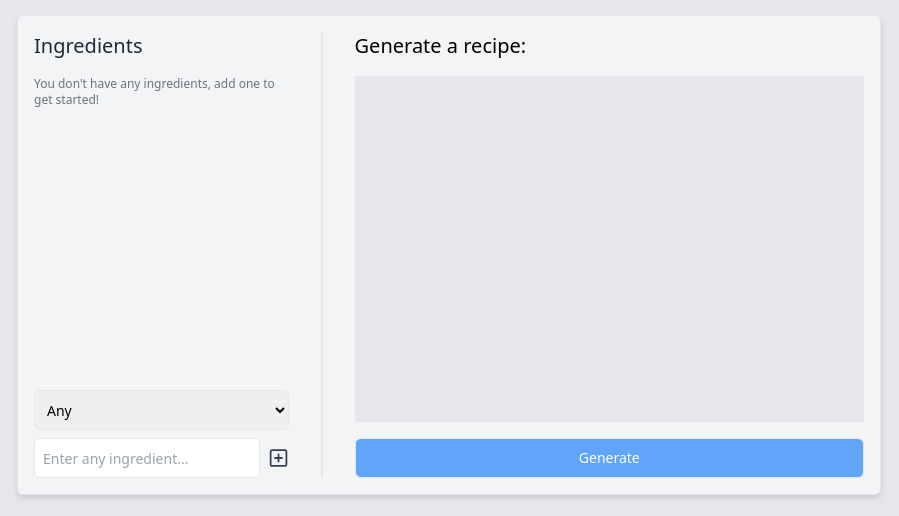
Test: Ingredients are added to the list
This screenshot has width=899, height=516.
Expected: the icon with id "addIngredient" is shown, [268,446,289,470]
In the field with id "ingredientInput": point(147, 458) [34,438,260,478], type "test"
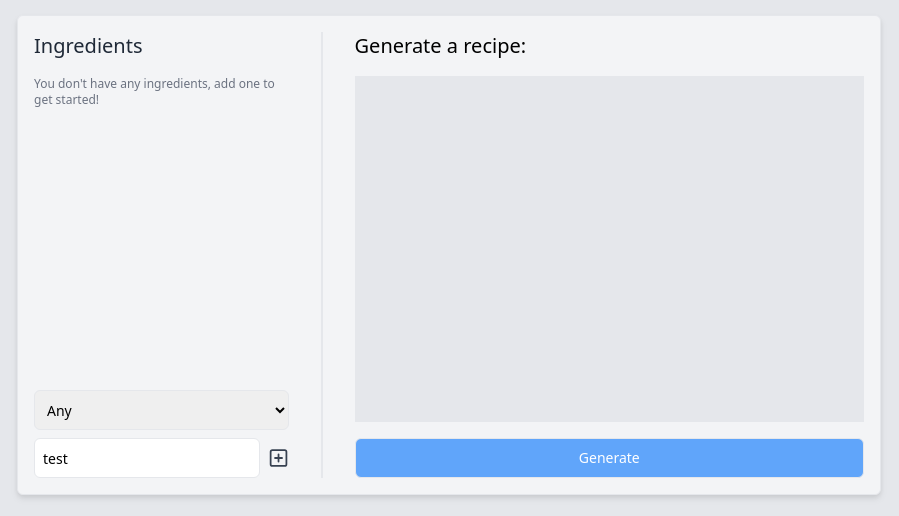
Click the icon with id "addIngredient": point(278, 458) [268,446,289,470]
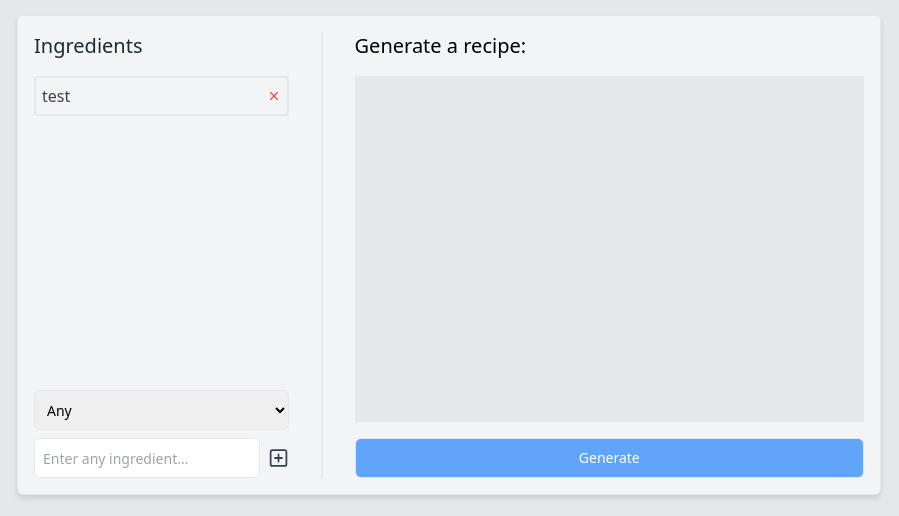
Expected: the element showing "test" is shown, [34,76,289,116]
